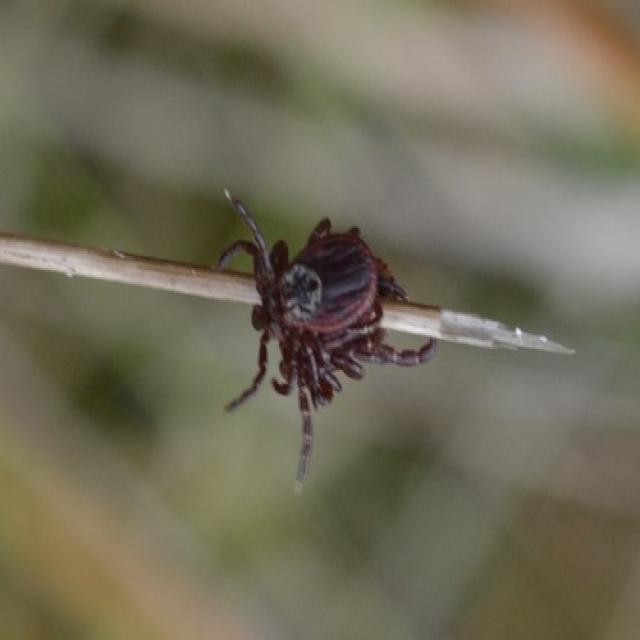Dermacentor Reticulatus-F: (253, 217, 379, 480)
